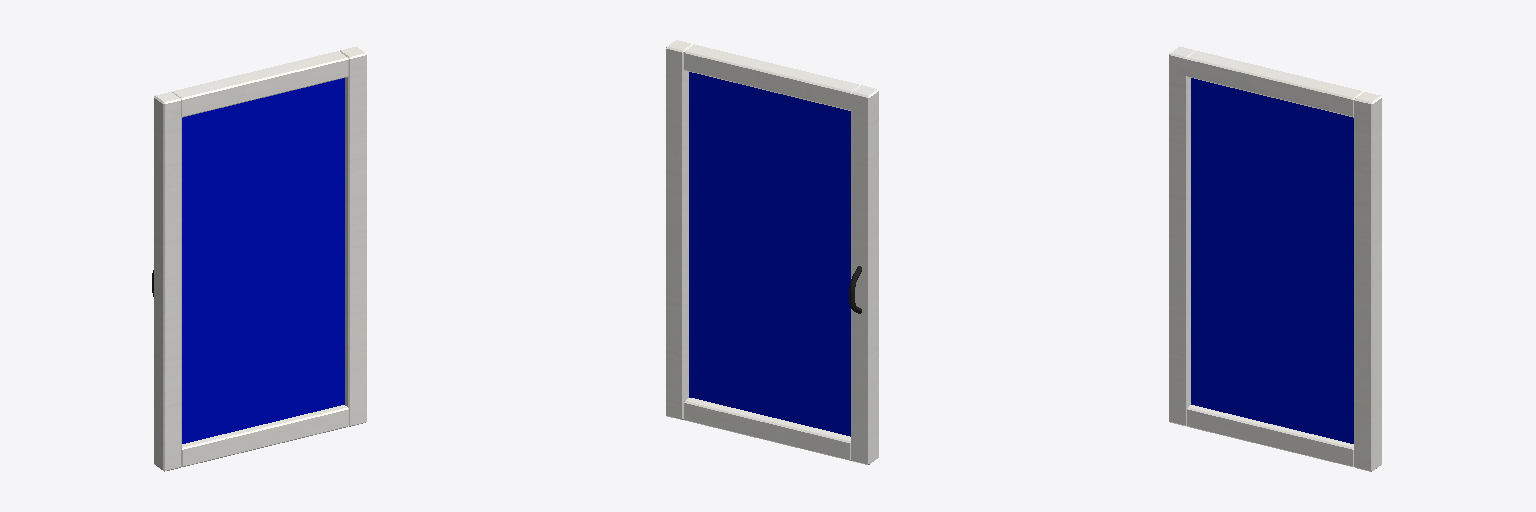
3 views of the same model, side by side, from view 1: azimuth 30°, elevation 25°; view 2: azimuth 150°, elevation 25°; view 3: azimuth 330°, elevation 25° (orthographic).
Parts seen in each view (by area): view 1: Object080, Object078; view 2: Object080, Object078; view 3: Object080, Object078.
Part boxes in pixels (left/top/right/bottom): Object080: left=182, top=78, right=344, bottom=443; Object078: left=154, top=46, right=366, bottom=471; Object080: left=689, top=72, right=850, bottom=436; Object078: left=666, top=40, right=878, bottom=464; Object080: left=1191, top=78, right=1353, bottom=443; Object078: left=1169, top=46, right=1381, bottom=471.
Bounding box in the file's own units: 438 × 758 × 72.94.
Materials: 3 (1 with a texture image).